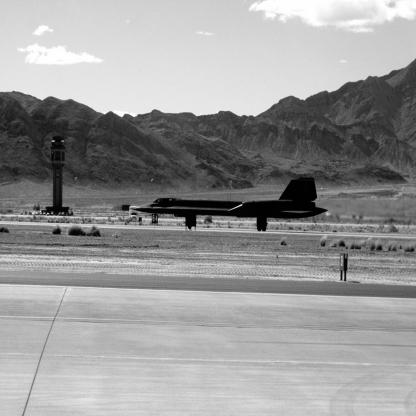SR71: (127, 178, 329, 233)
